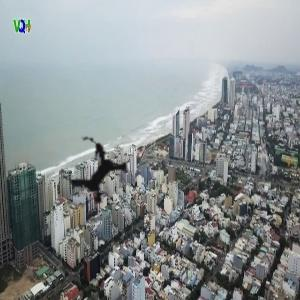drone: (33, 113, 162, 242)
